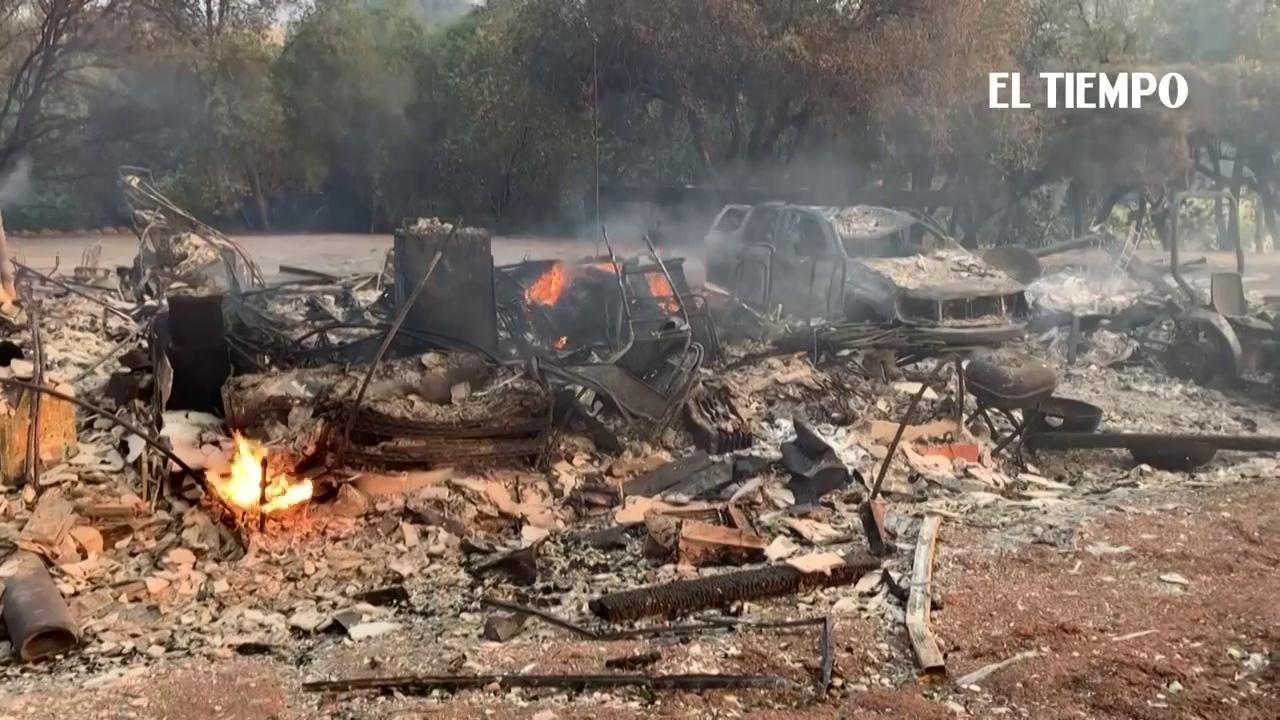Fire: (198, 426, 315, 508), (527, 264, 569, 303), (648, 269, 669, 300), (549, 335, 569, 351)
